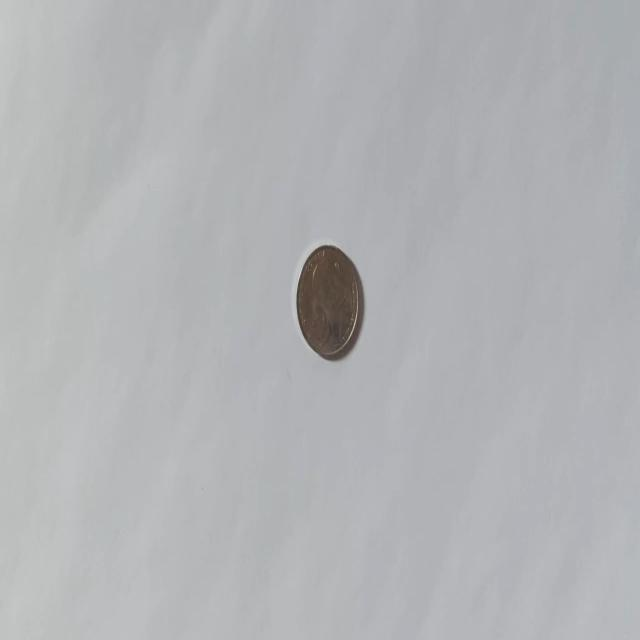seribu rupiah koin: (294, 242, 360, 360)
